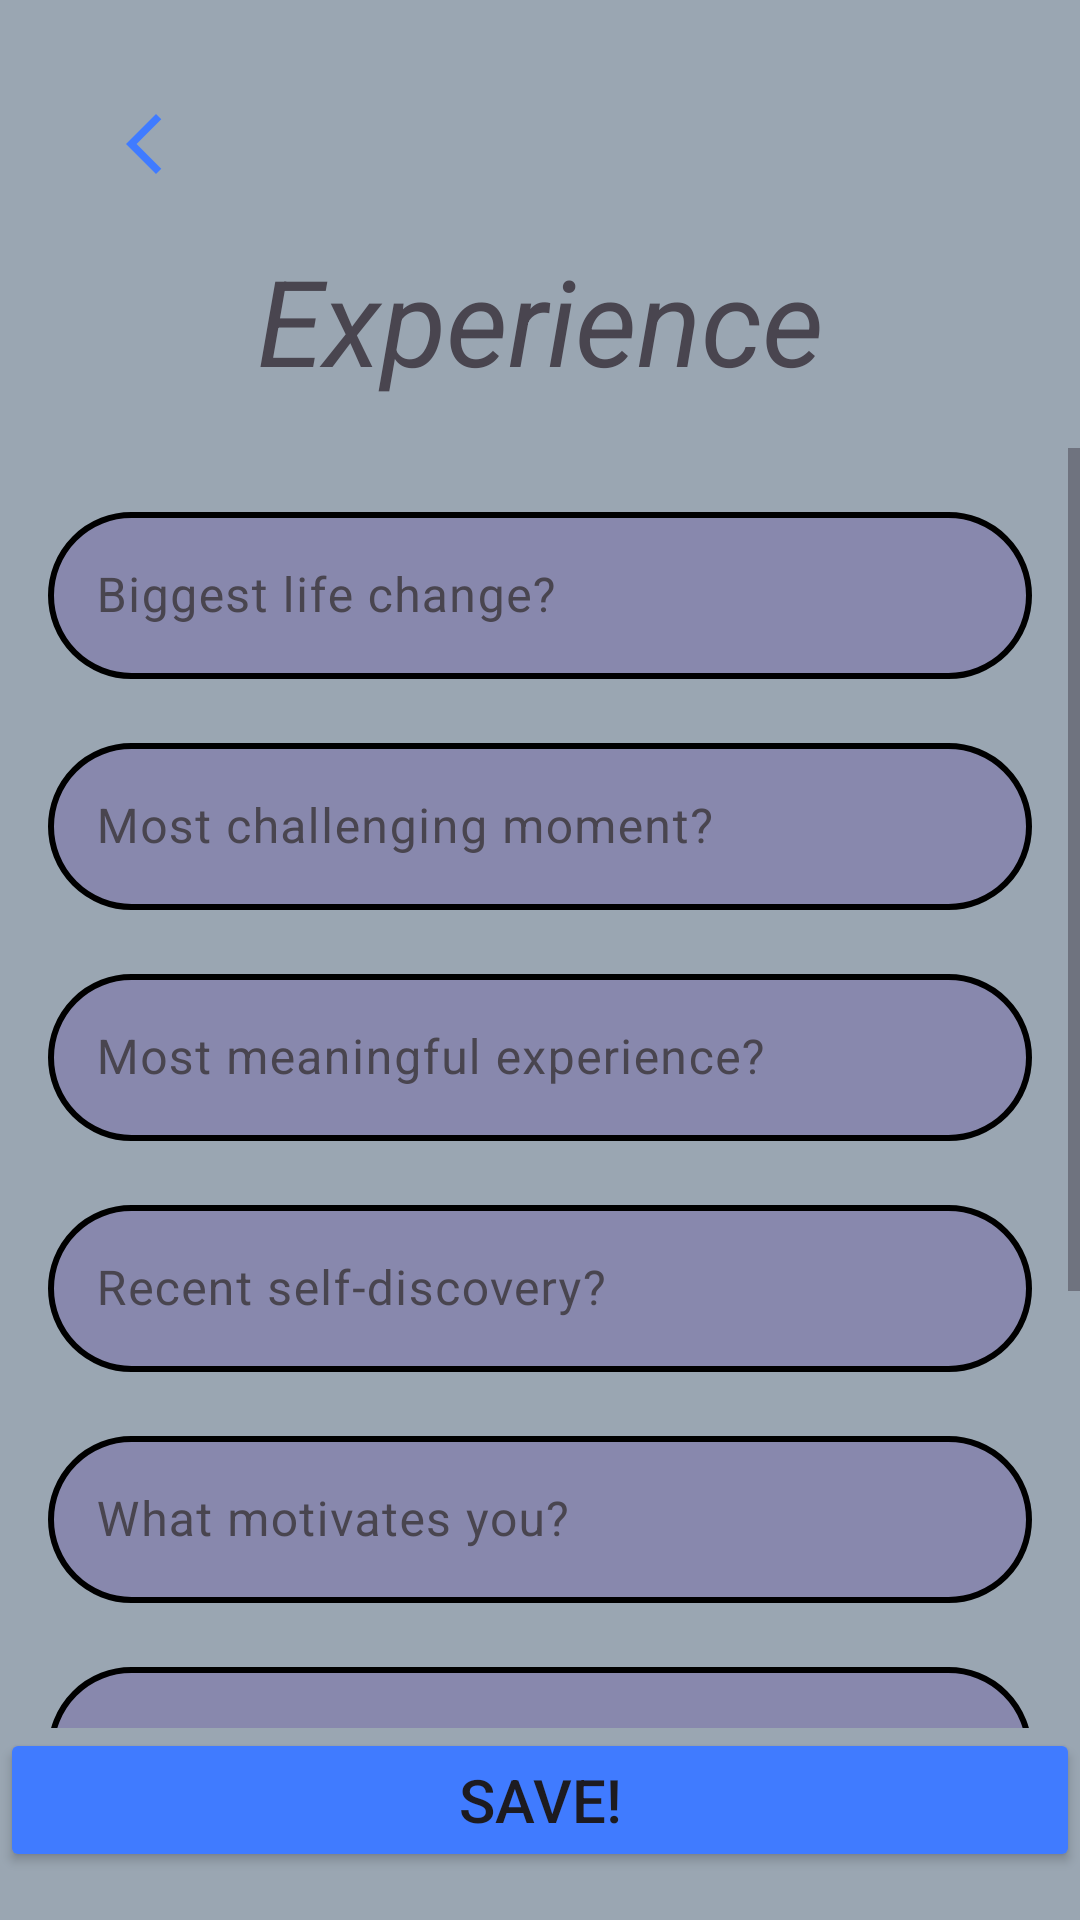

Screen size 1080px×1920px. Icon name, then its center in pixels as point (x, y):
Back button: point (143, 144)
